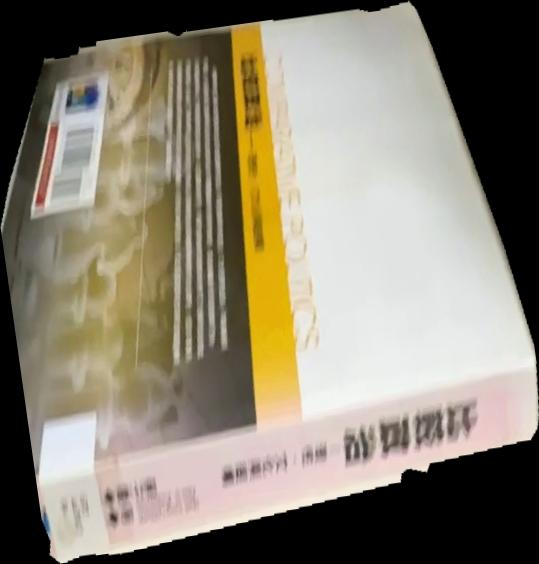flat: (1, 1, 539, 564)
